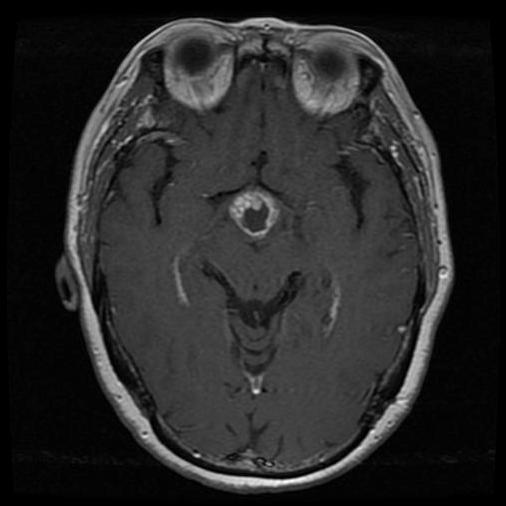Tumour-Pituitary: (226, 190, 278, 242)
